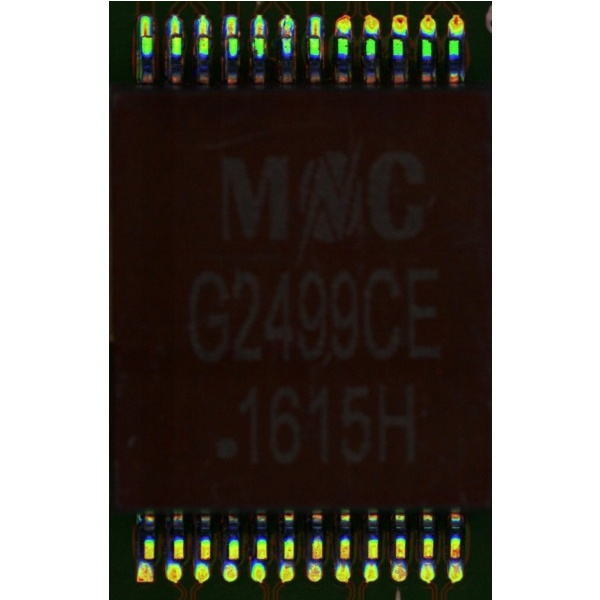Bad_podu: (311, 22, 320, 46), (228, 23, 236, 43), (172, 24, 179, 45), (255, 24, 262, 43), (143, 24, 148, 44), (284, 27, 290, 43)
